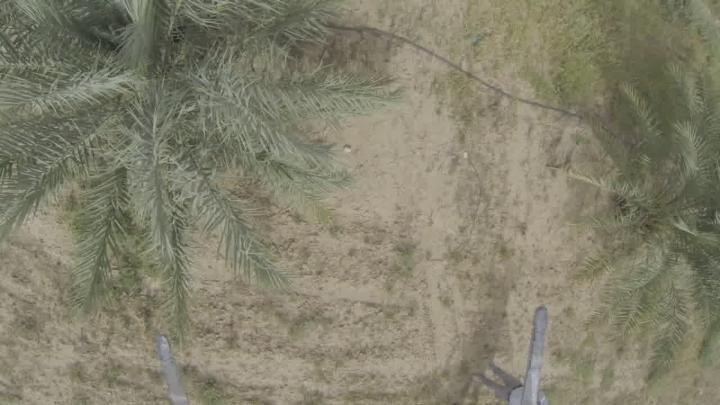Date-Palm-Crown: (0, 0, 282, 214), (611, 70, 720, 336)
